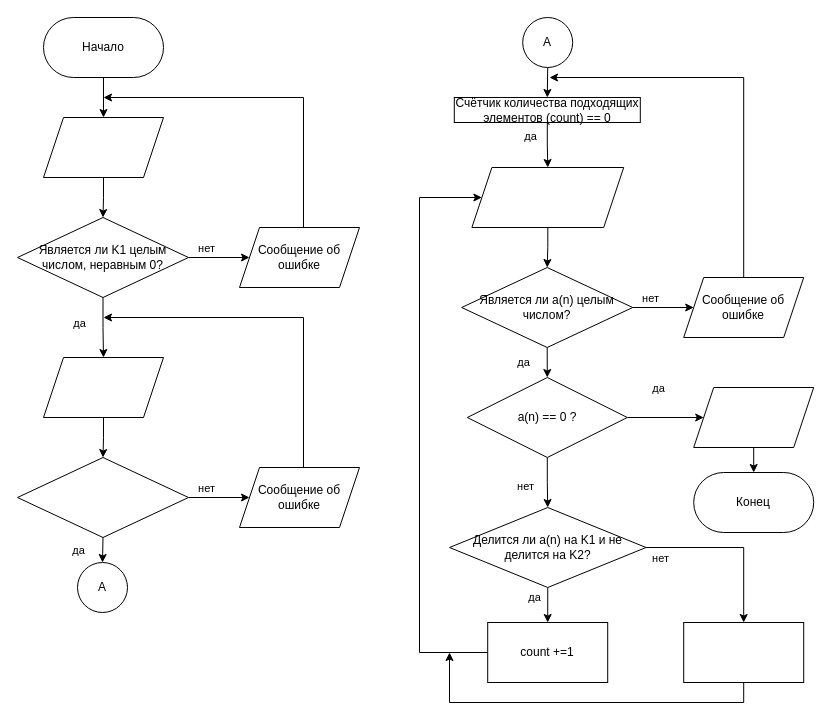
Image size: 832x728. Some labels were removed from this diagram. Each missing label, with the box of its shape:
count +=0: (683, 622, 804, 682)
Ввод a(n) (элемент последовательности): (471, 166, 624, 228)
Ввод K1: (42, 116, 164, 178)
Ввод K2: (42, 356, 164, 418)
Вывод count: (693, 386, 814, 448)
Является ли K2 целым числом, неравным 0?: (16, 456, 188, 538)
